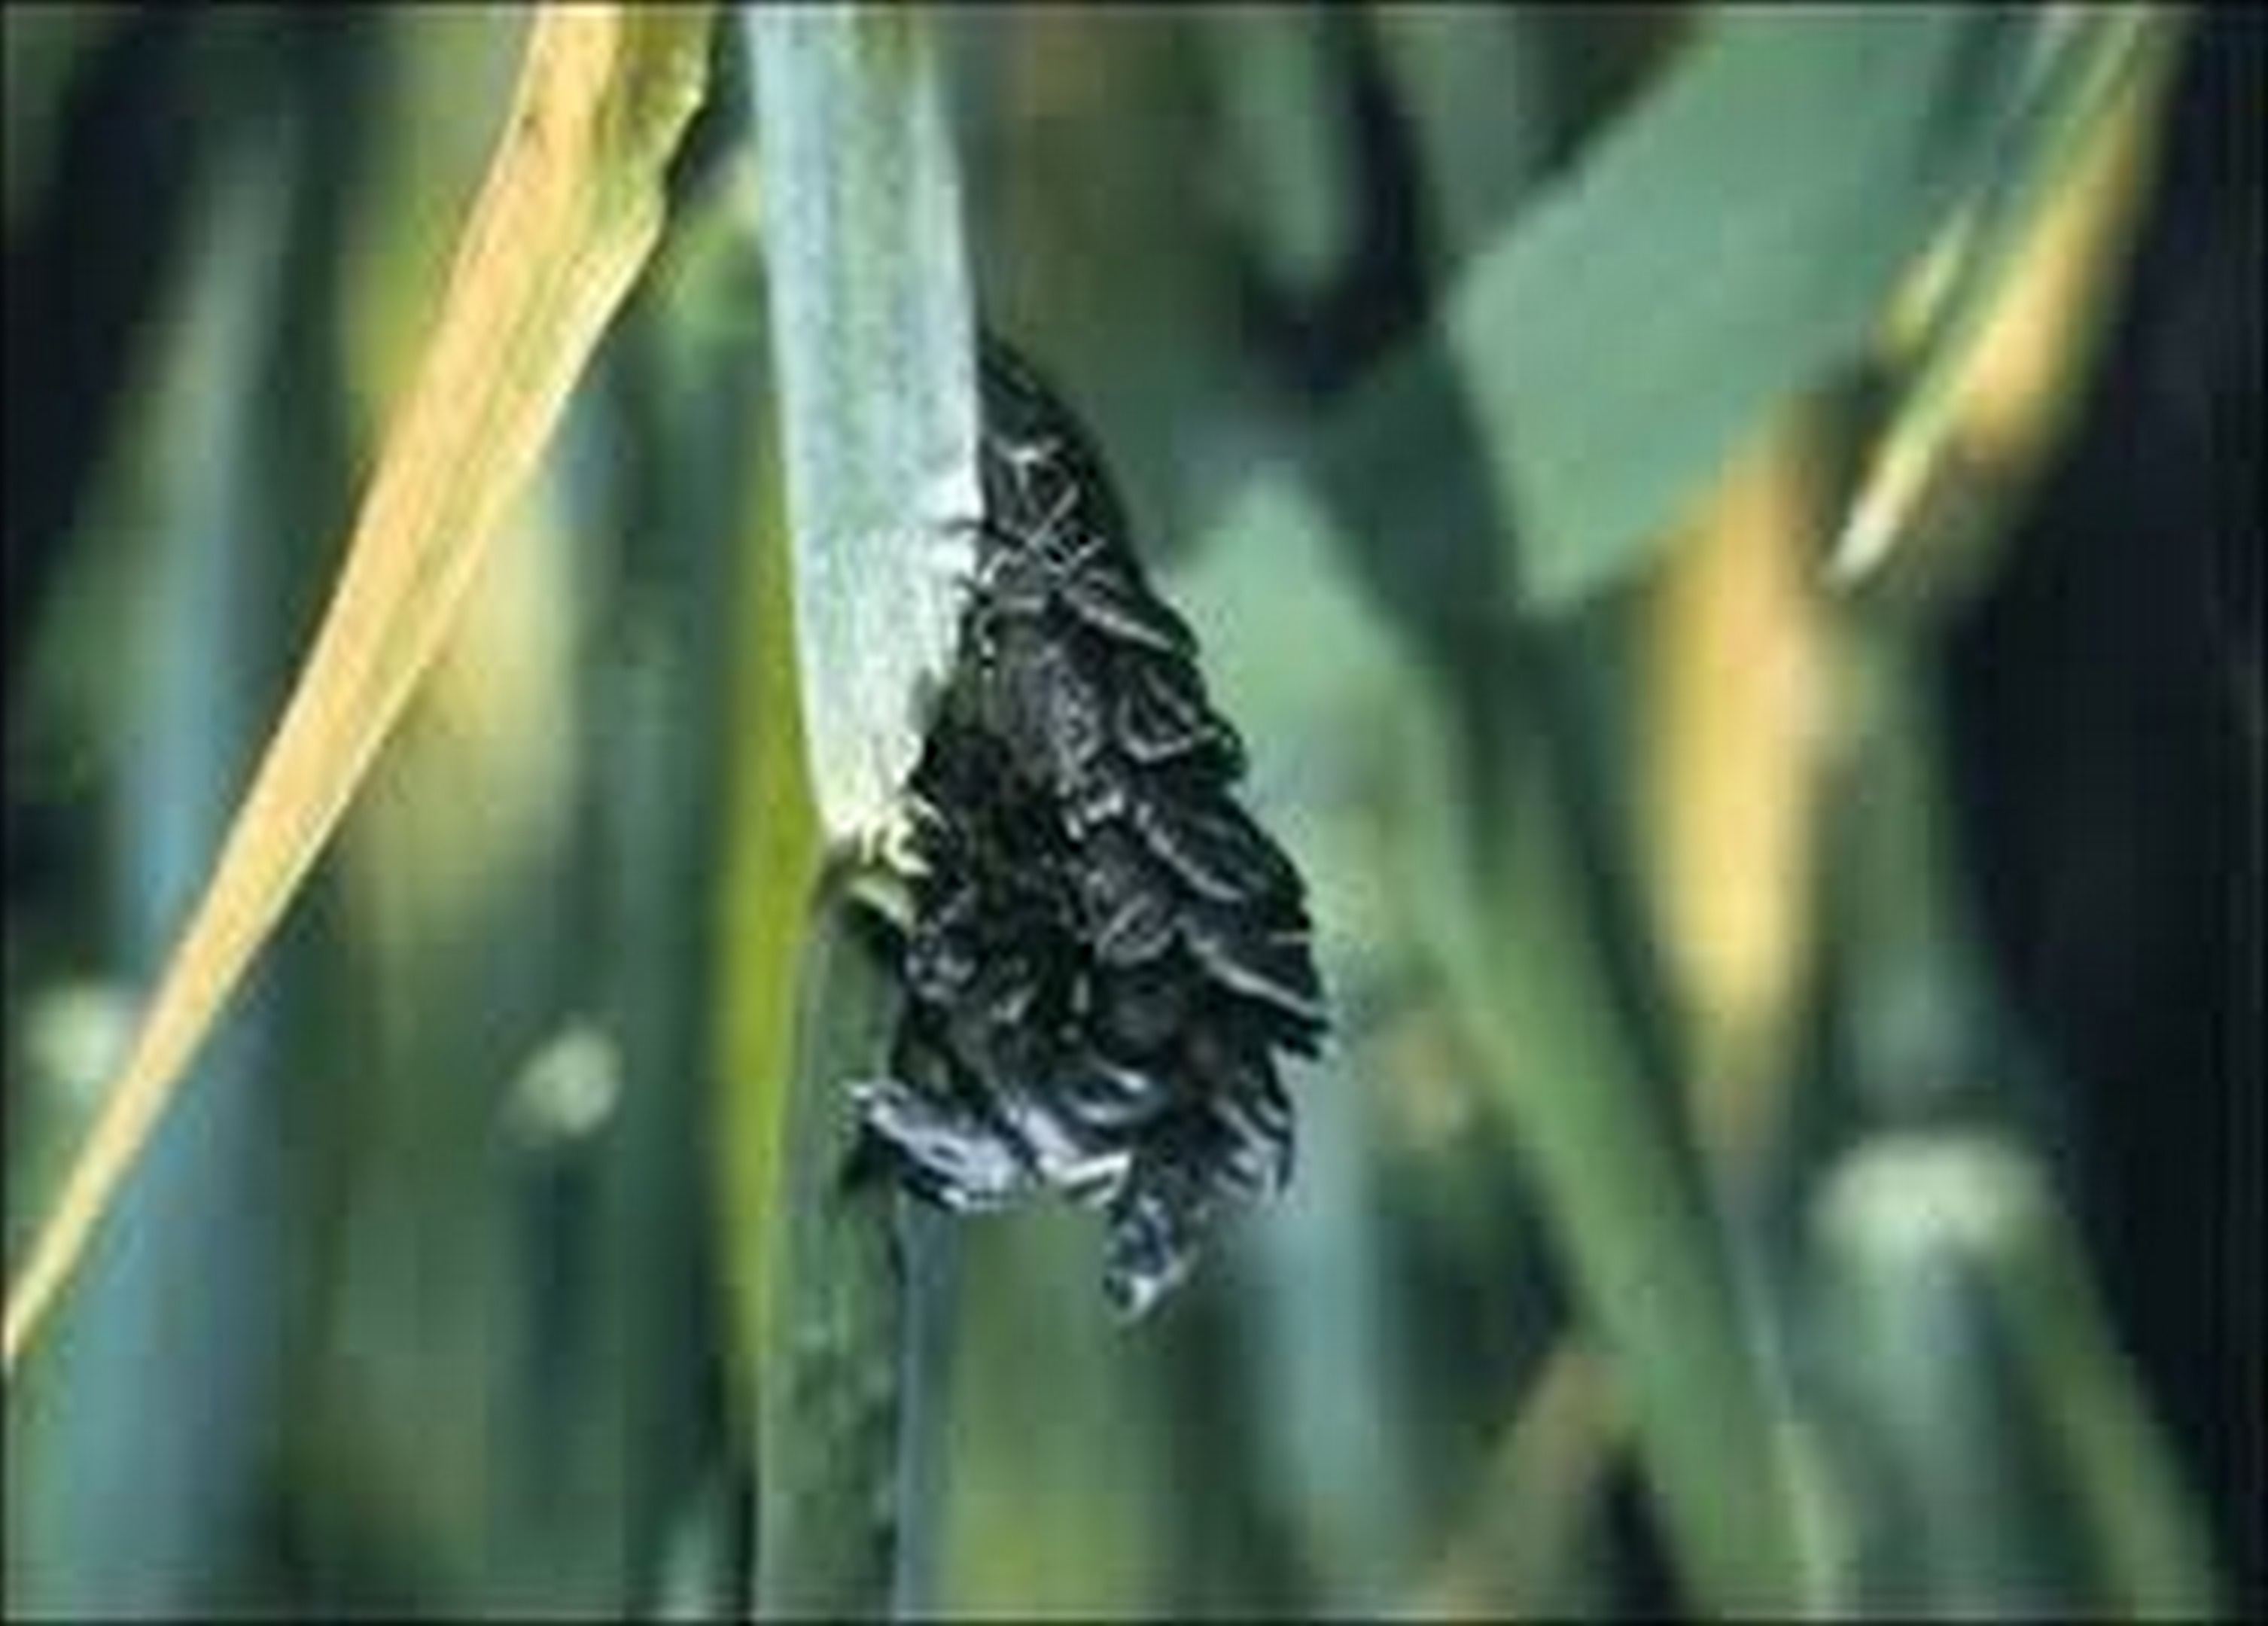Wheat Loose Smut: (753, 324, 1337, 1316)
